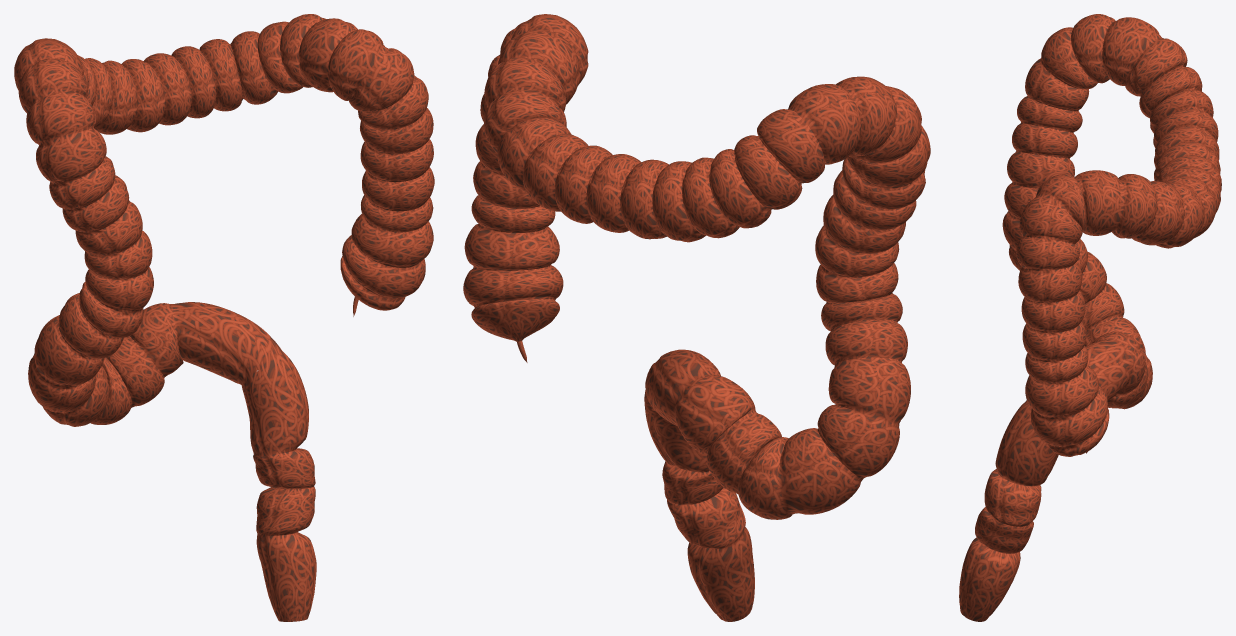
The model's file is Welded_01.fbx.
3 views of the same model, side by side, from view 1: azimuth 30°, elevation 25°; view 2: azimuth 150°, elevation 25°; view 3: azimuth 270°, elevation 25° (orthographic). The views are drawn at different scales.
Visible parts, largest first — view 1: WeldedModelGO; view 2: WeldedModelGO; view 3: WeldedModelGO.
Part boxes in pixels (x1,y1,x2,y2): WeldedModelGO: (14, 14, 434, 621); WeldedModelGO: (463, 14, 930, 621); WeldedModelGO: (959, 14, 1221, 621).
Size of the model in its own units: 72.82 by 99.09 by 45.09.
